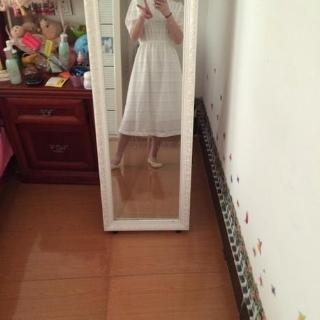short sleeve dress: (119, 0, 189, 137)
